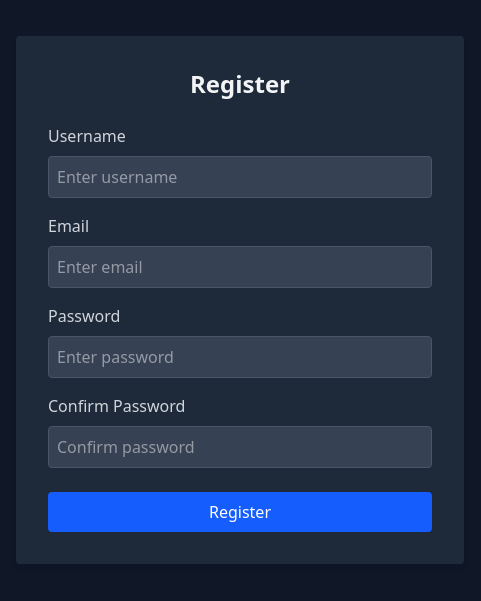
it: Register Page › displays error message when registration fails
Type "newuser" into the field with placeholder "Enter username" at (240, 177), box left=48, top=156, right=432, bottom=198
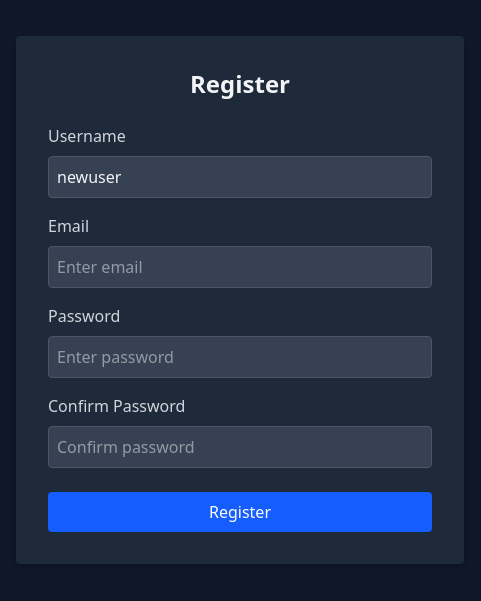
Type "newuser@example.com" into the field with placeholder "Enter email" at (240, 267), box left=48, top=246, right=432, bottom=288
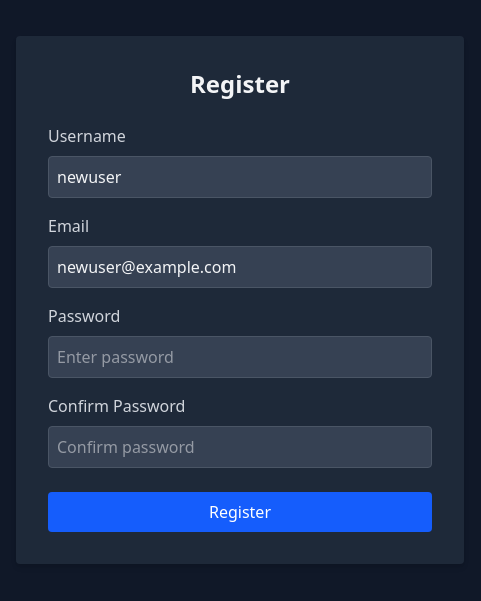
Type "password123" into the password field with placeholder "Enter password" at (240, 357), box left=48, top=336, right=432, bottom=378
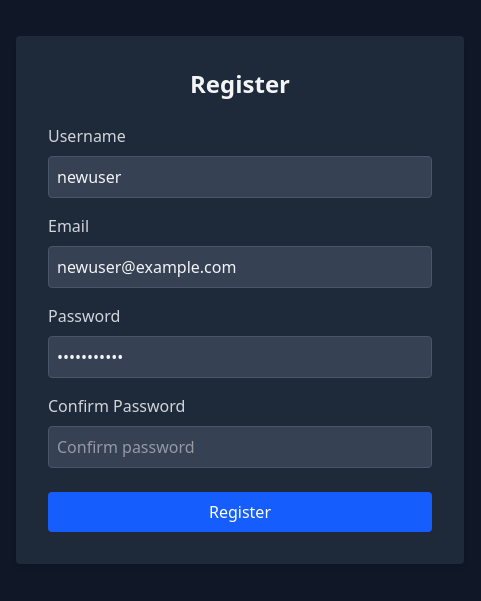
Type "password123" into the password field with placeholder "Confirm Password" at (240, 447), box left=48, top=426, right=432, bottom=468
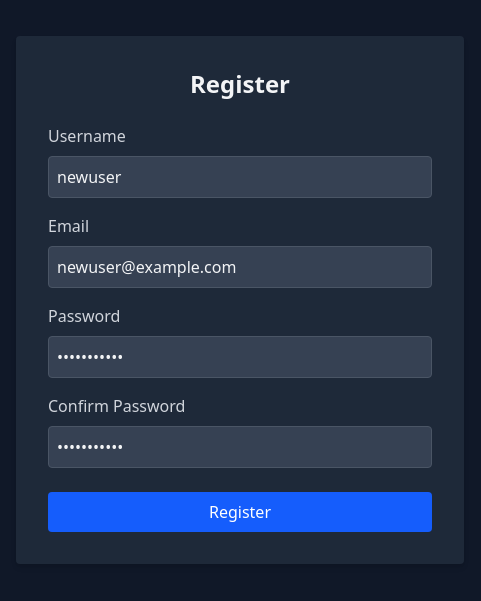
Click the button "Register" at (240, 512), box left=48, top=492, right=432, bottom=532
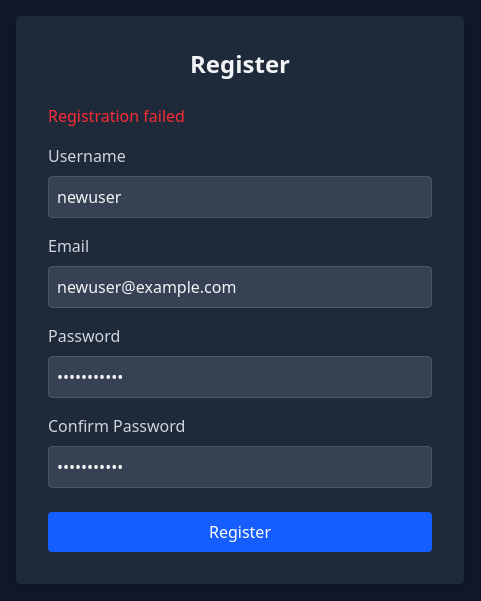
Now the text "Registration failed" is shown, box left=48, top=105, right=185, bottom=127
